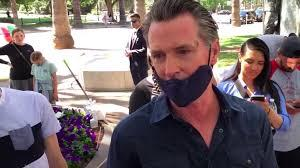No Mask: (239, 47, 270, 87), (281, 53, 300, 83), (12, 30, 26, 46), (130, 15, 140, 31)
Wore Mask Incorrectly: (147, 15, 221, 106)
